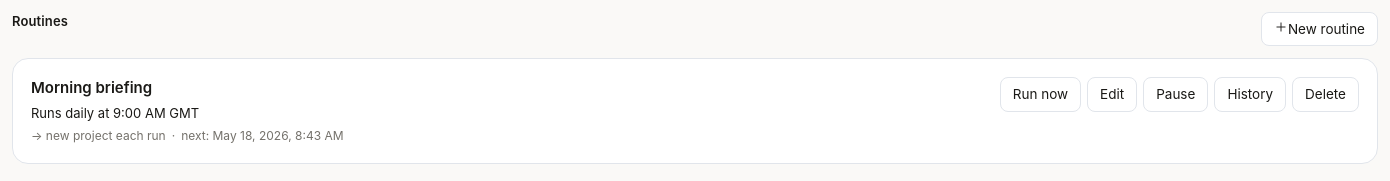
it: RoutinesSection › pauses and resumes an existing routine through PATCH updates
Click the button "Pause". click: (1176,94)
box: 1143,77 -> 1208,112
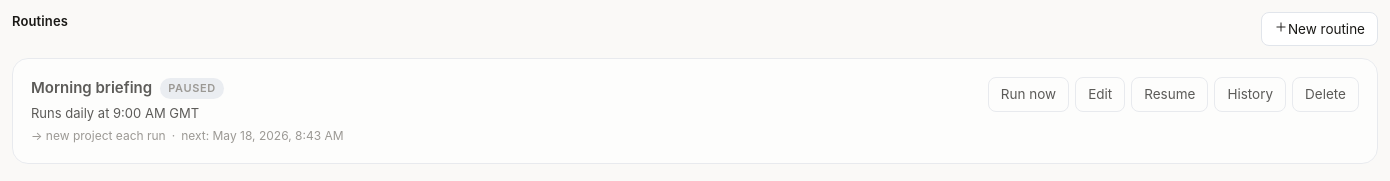
Result: the button "Resume" is shown
Click the button "Resume". click: (1170,94)
box: 1131,77 -> 1208,112
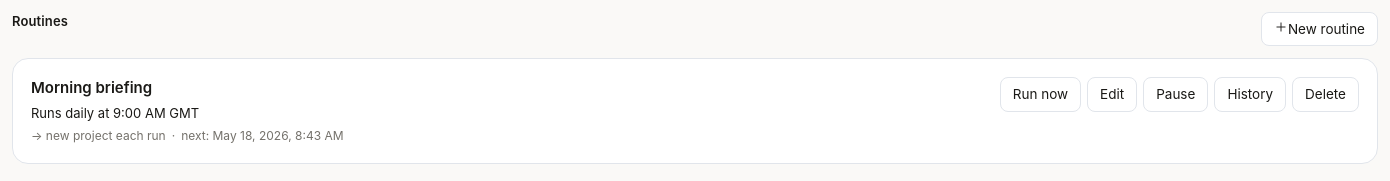
Result: the button "Pause" is shown at 1143,77 -> 1208,112
